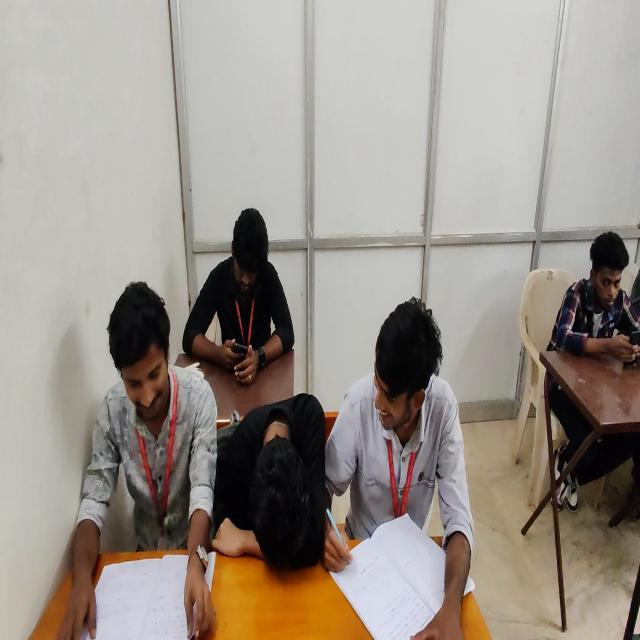reading: (54, 275, 220, 640)
sleeping: (210, 362, 332, 575)
turning: (319, 297, 479, 640)
using_mobile: (180, 200, 299, 394), (540, 214, 640, 391)
